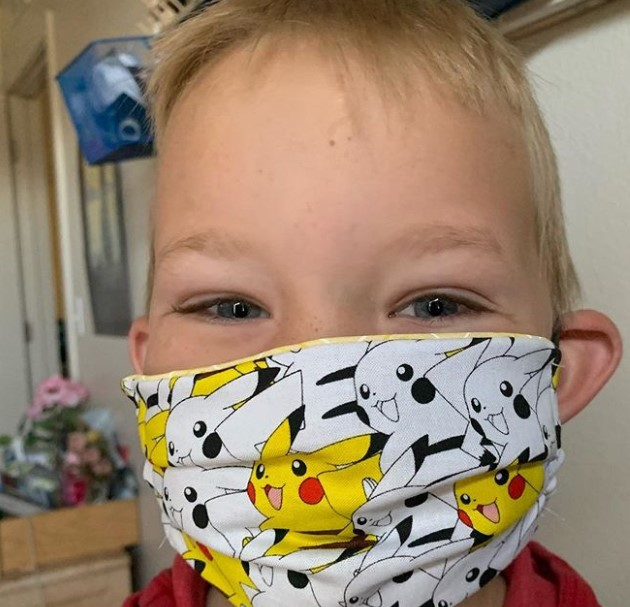face_with_mask: (115, 8, 572, 598)
